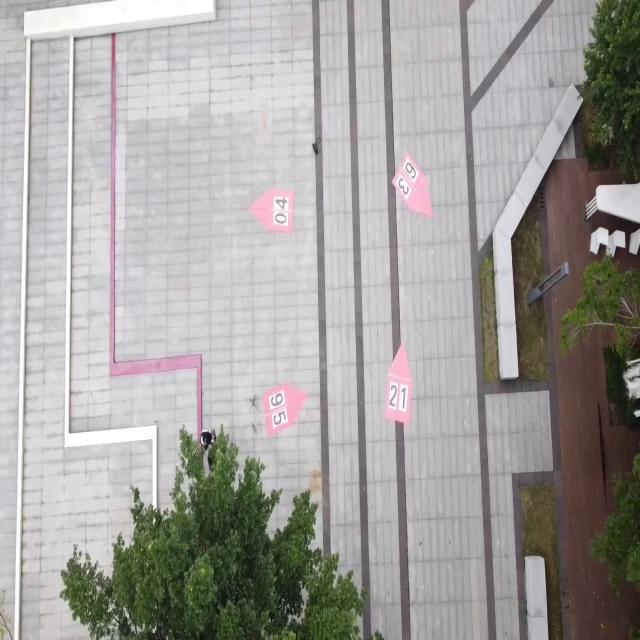-sign-: (392, 150, 433, 219), (262, 382, 308, 437), (385, 342, 414, 426), (250, 187, 294, 234)
